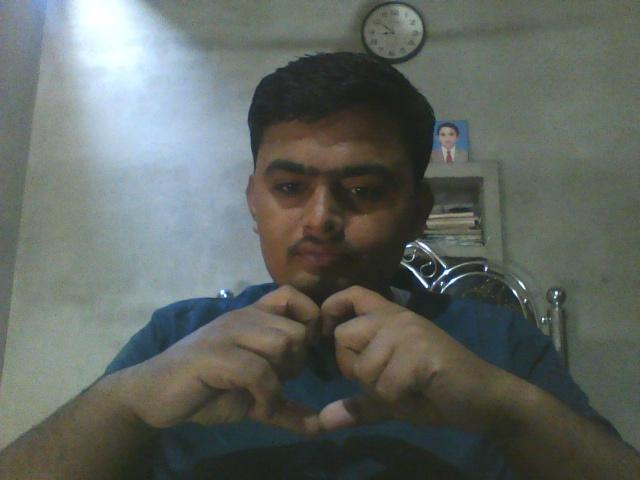IloveYou: (199, 282, 417, 442)
